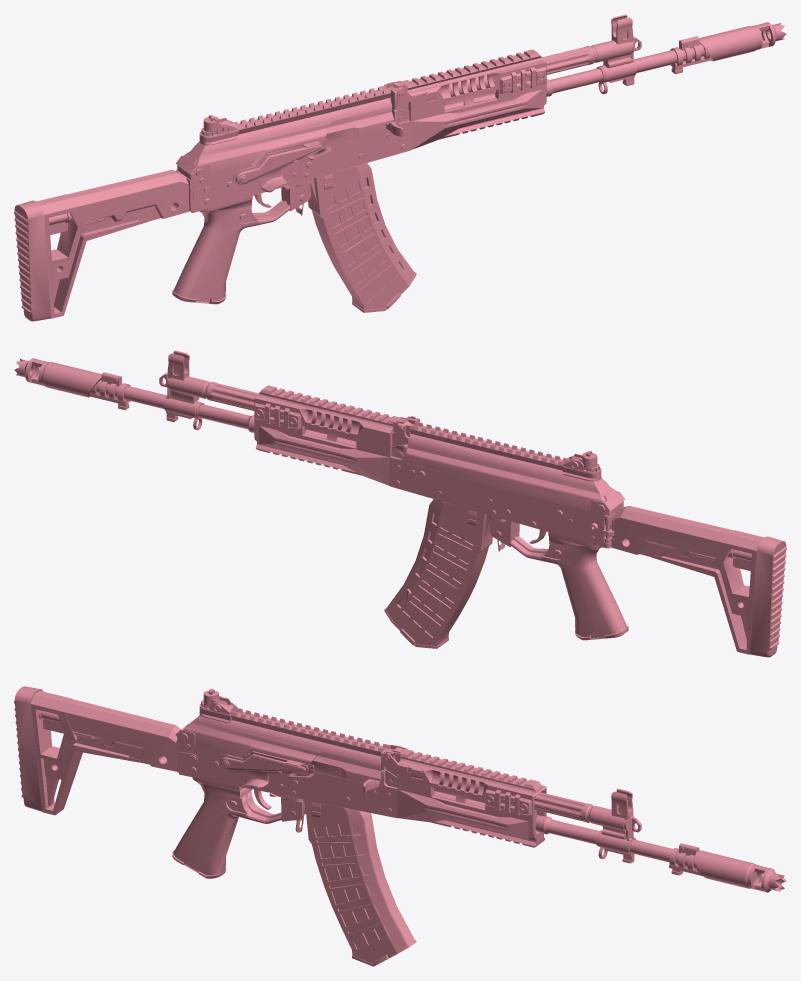
File: AK12RSPivot.fbx
3 renders of one model, top to bottom at view 1: azimuth 30°, elevation 25°; view 2: azimuth 150°, elevation 25°; view 3: azimuth 330°, elevation 25°, orthographic.
Visible parts, largest first — view 1: butt.002, clip.002, receiver.004, Cube.001, handle.001, handguard.002, handguard.003, barrel.005, receiver.006, barrel.001, Затвор.004, gasTube.006 (+5 smaller); view 2: butt.002, clip.002, receiver.004, Cube.001, handle.001, handguard.002, handguard.003, barrel.005, barrel.001, gasTube.006, gasTube.005, sight.001 (+3 smaller); view 3: butt.002, clip.002, receiver.004, Cube.001, handle.001, handguard.002, handguard.003, barrel.005, barrel.001, receiver.006, Затвор.004, gasTube.006 (+5 smaller).
Part boxes in pixels (x1=…): butt.002: x1=14, y1=170, x2=189, y2=321; clip.002: x1=308, y1=163, x2=416, y2=312; receiver.004: x1=176, y1=82, x2=404, y2=179; Cube.001: x1=191, y1=81, x2=410, y2=212; handle.001: x1=172, y1=196, x2=290, y2=304; handguard.002: x1=401, y1=49, x2=546, y2=118; handguard.003: x1=409, y1=85, x2=546, y2=149; barrel.005: x1=590, y1=14, x2=641, y2=94; receiver.006: x1=233, y1=138, x2=331, y2=192; barrel.001: x1=699, y1=22, x2=786, y2=61; Затвор.004: x1=325, y1=97, x2=403, y2=143; gasTube.006: x1=449, y1=46, x2=594, y2=96; butt.002: x1=611, y1=506, x2=786, y2=657; clip.002: x1=384, y1=499, x2=492, y2=648; receiver.004: x1=396, y1=418, x2=625, y2=515; Cube.001: x1=390, y1=416, x2=611, y2=547; handle.001: x1=510, y1=532, x2=628, y2=640; handguard.002: x1=254, y1=385, x2=399, y2=454; handguard.003: x1=254, y1=421, x2=391, y2=485; barrel.005: x1=159, y1=350, x2=210, y2=430; barrel.001: x1=14, y1=358, x2=101, y2=397; gasTube.006: x1=206, y1=382, x2=393, y2=432; gasTube.005: x1=198, y1=404, x2=356, y2=445; sight.001: x1=562, y1=451, x2=601, y2=481; butt.002: x1=14, y1=686, x2=180, y2=815; clip.002: x1=303, y1=799, x2=416, y2=966; receiver.004: x1=175, y1=707, x2=404, y2=765; Cube.001: x1=178, y1=741, x2=407, y2=818; handle.001: x1=172, y1=777, x2=281, y2=878; handguard.002: x1=397, y1=749, x2=546, y2=819; handguard.003: x1=397, y1=786, x2=546, y2=847; barrel.005: x1=587, y1=788, x2=641, y2=863; barrel.001: x1=695, y1=850, x2=786, y2=892; receiver.006: x1=219, y1=751, x2=314, y2=787; Затвор.004: x1=310, y1=752, x2=381, y2=794; gasTube.006: x1=439, y1=772, x2=593, y2=822.
Size of the model in its own units: 83.75 by 24.39 by 5.43.
